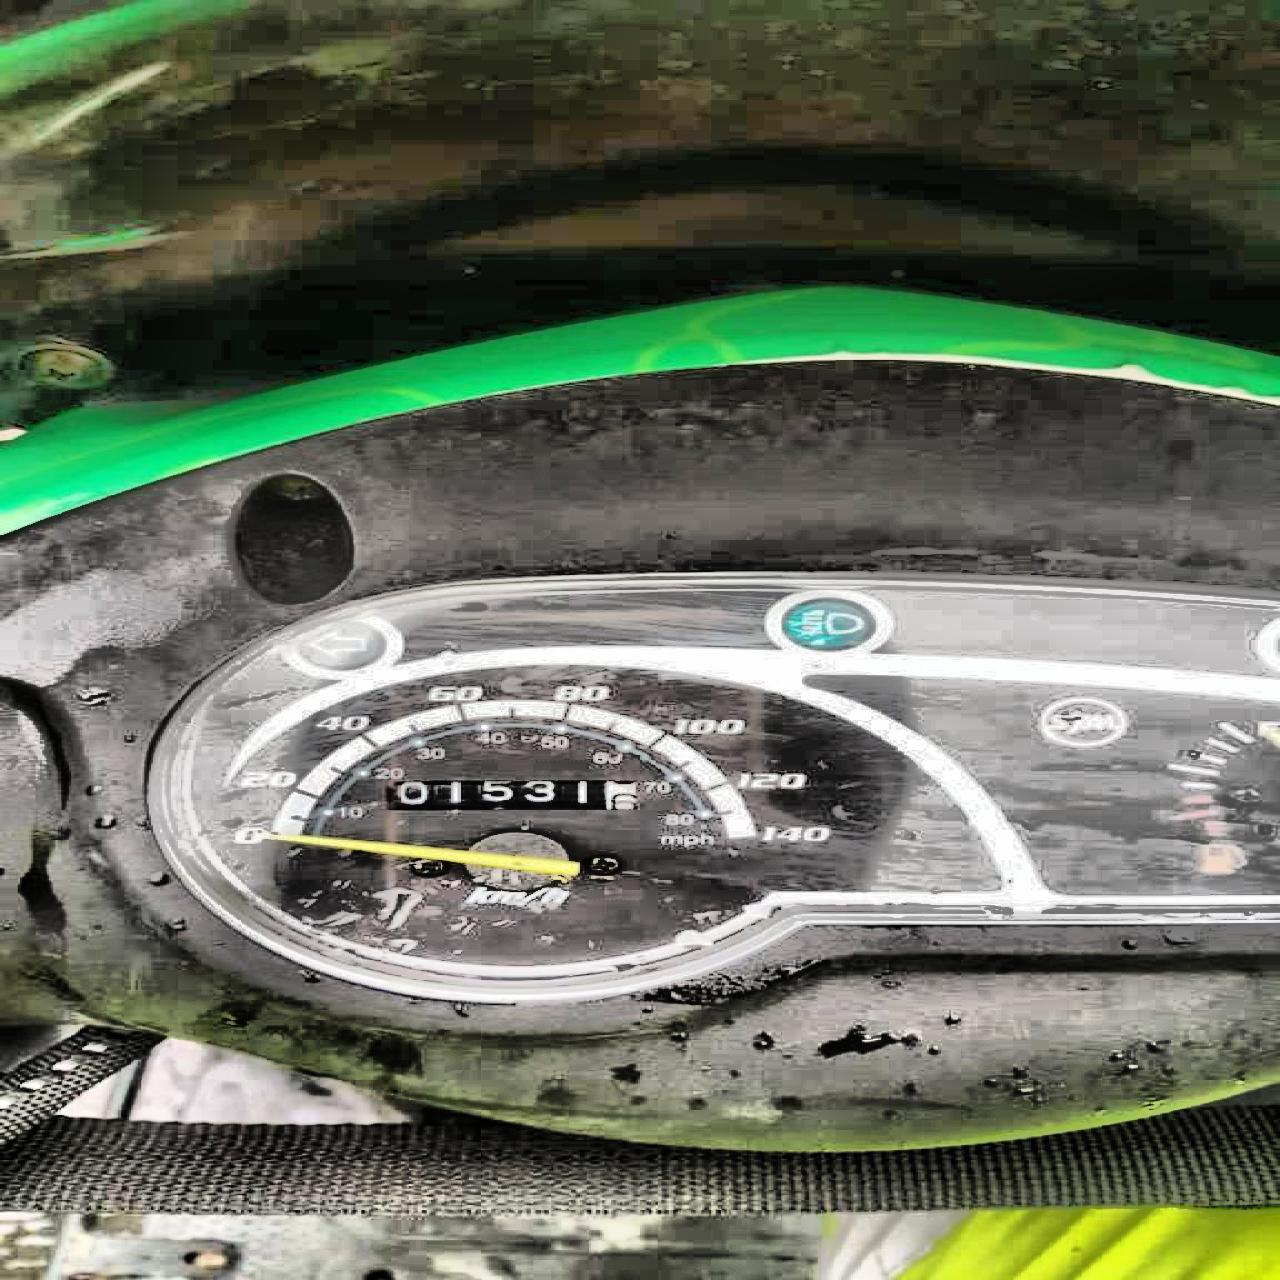0: (392, 779, 427, 805)
1: (442, 779, 469, 805), (571, 778, 593, 806)
3: (523, 778, 553, 803)
5: (477, 778, 516, 806)
6: (608, 789, 635, 810)
odometer: (382, 777, 640, 811)
